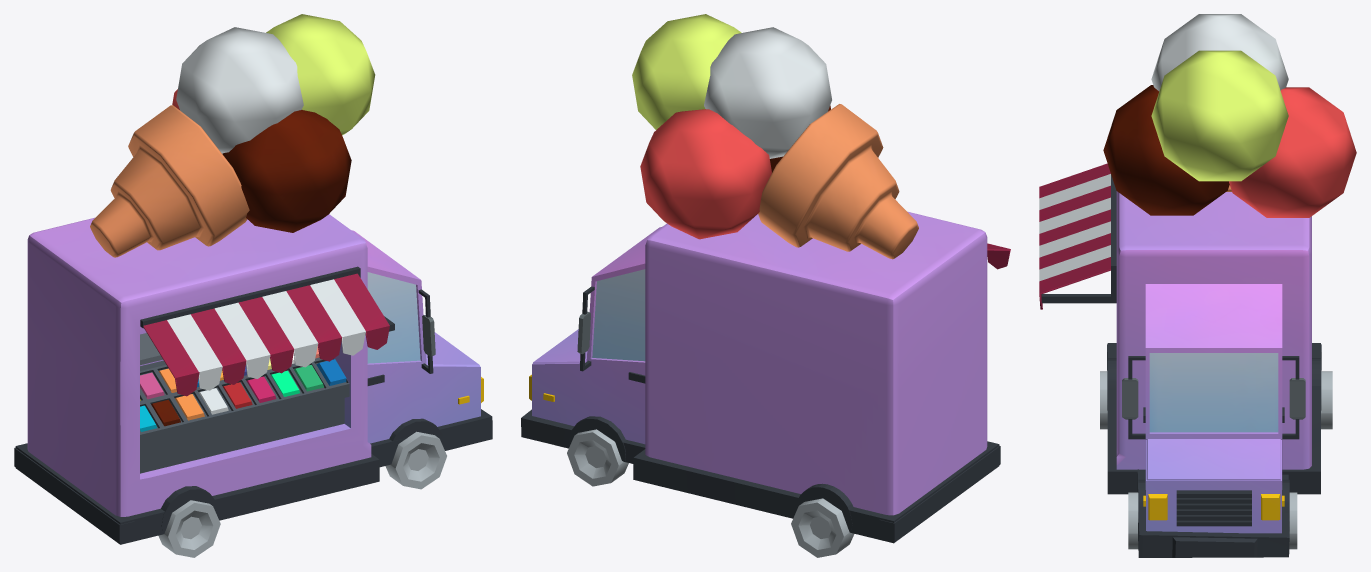
Rendered from IceCreamTruck.fbx.
The picture shows the model from 3 angles, left to right: view 1: azimuth 30°, elevation 25°; view 2: azimuth 150°, elevation 25°; view 3: azimuth 270°, elevation 25°; orthographic projection.
Visible parts, largest first — view 1: IceCreamTruck; view 2: IceCreamTruck; view 3: IceCreamTruck.
Part boxes in pixels (x1,y1,x2,y2): IceCreamTruck: (14,14,492,557); IceCreamTruck: (521,14,1010,557); IceCreamTruck: (1039,14,1356,557).
Bounding box in the file's own units: 674 × 746 × 462.
